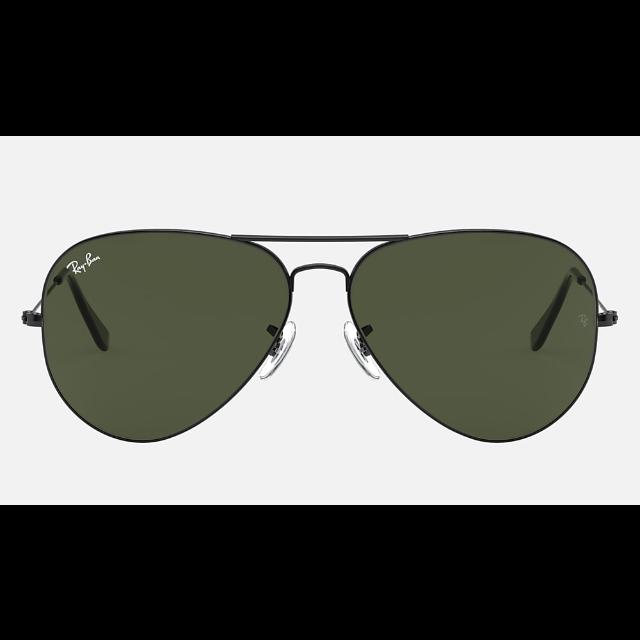Sunglasses: (21, 224, 621, 442)
